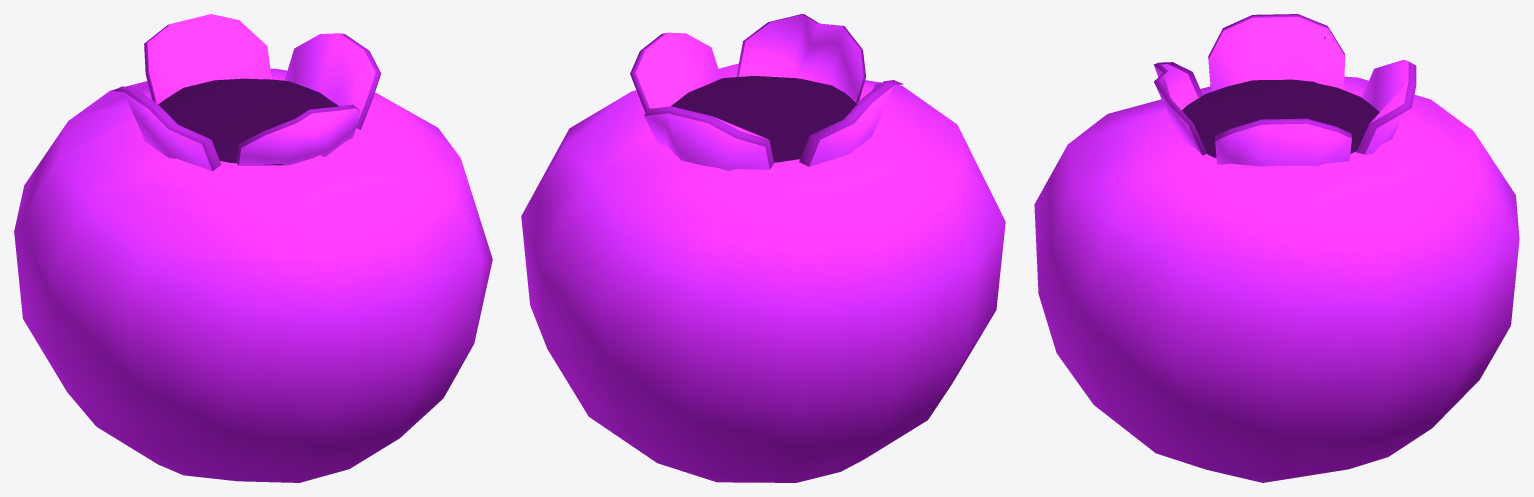
File: purple_blueberry.glb
3 renders of one model, left to right at view 1: azimuth 30°, elevation 25°; view 2: azimuth 150°, elevation 25°; view 3: azimuth 270°, elevation 25°, orthographic.
Parts seen in each view (by area): view 1: Purple_Blueberry; view 2: Purple_Blueberry; view 3: Purple_Blueberry.
Boxes of the visible parts, box(x1,y1,x2,y2) form: Purple_Blueberry: box(14, 14, 492, 482); Purple_Blueberry: box(521, 14, 1005, 482); Purple_Blueberry: box(1034, 14, 1519, 482).
Bounding box in the file's own units: 0.4946 × 0.4488 × 0.5091.
1 material, 1 textured.
